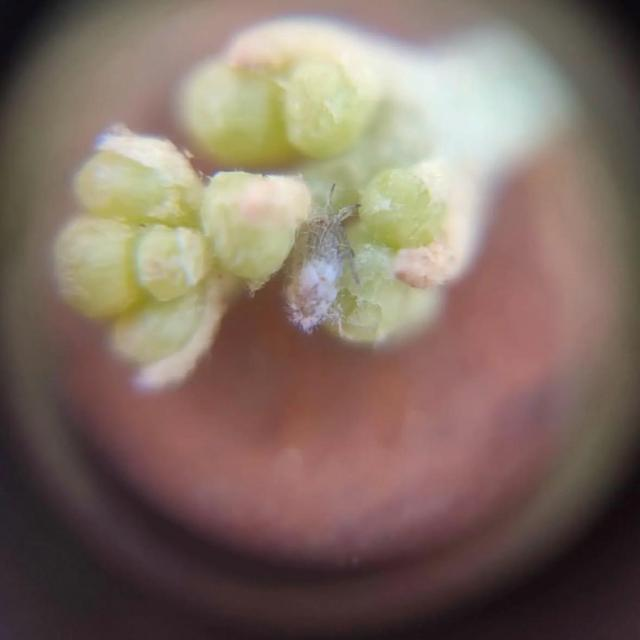Psyllid: (54, 19, 532, 390)
